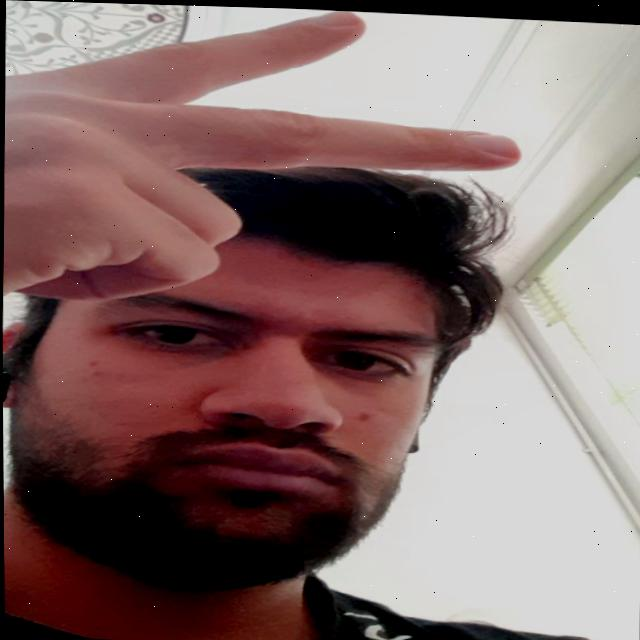Head: (1, 150, 517, 599)
Two: (0, 0, 534, 334)
